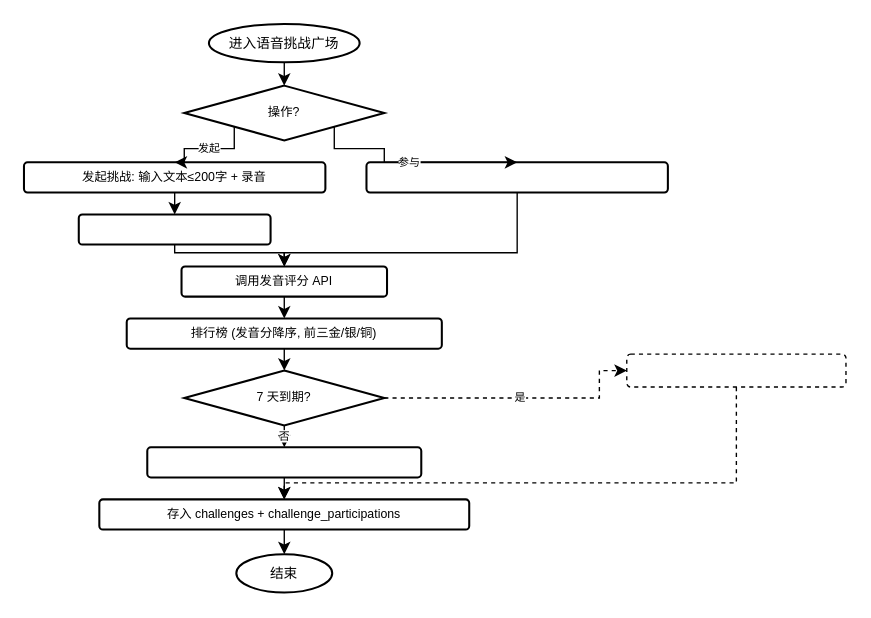
This 871x618 diagram has some shape labels left out. Here are the shapes that lost their labels. From the top down, the box of each, then its label:
(365, 161, 668, 193): 参与挑战: 搜索/浏览 → 录音跟读
(77, 213, 271, 245): 发布至广场
(625, 353, 846, 387): 自动归档 + 仍可浏览
(146, 446, 422, 478): 挑战活跃中 (广场展示)
